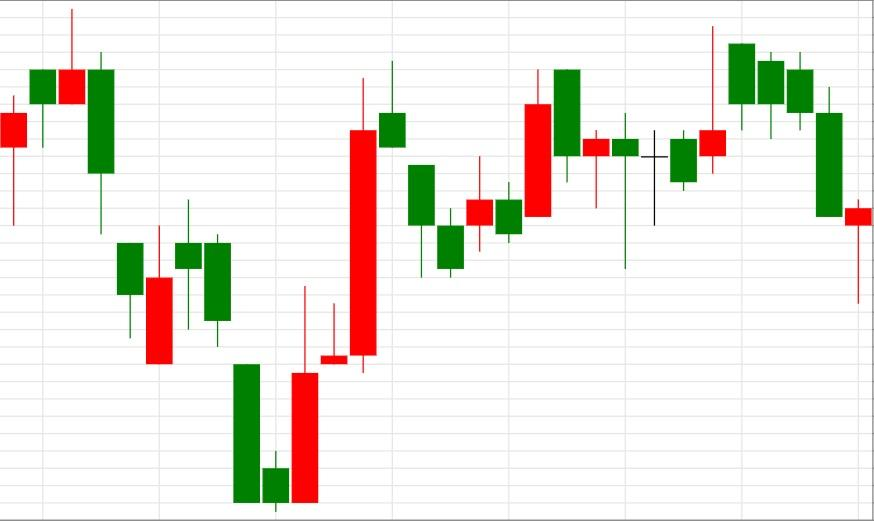shooting_star_fall: (0, 9, 86, 225)
three_black_crows_fall: (262, 60, 465, 512)
